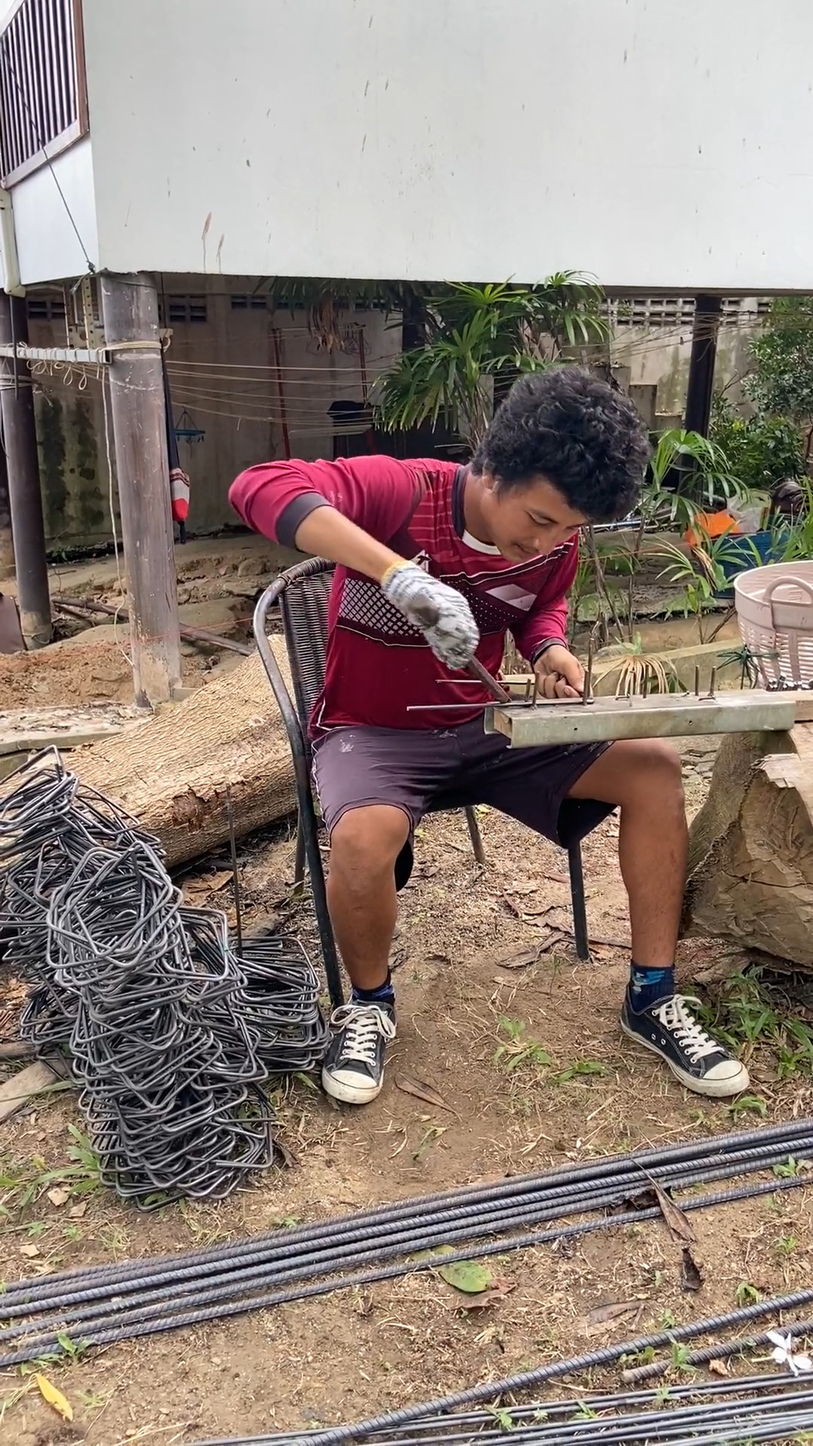No-gloves: (532, 635, 589, 712)
gloves: (371, 545, 499, 686)
